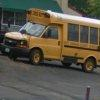buses: (1, 8, 100, 72)
